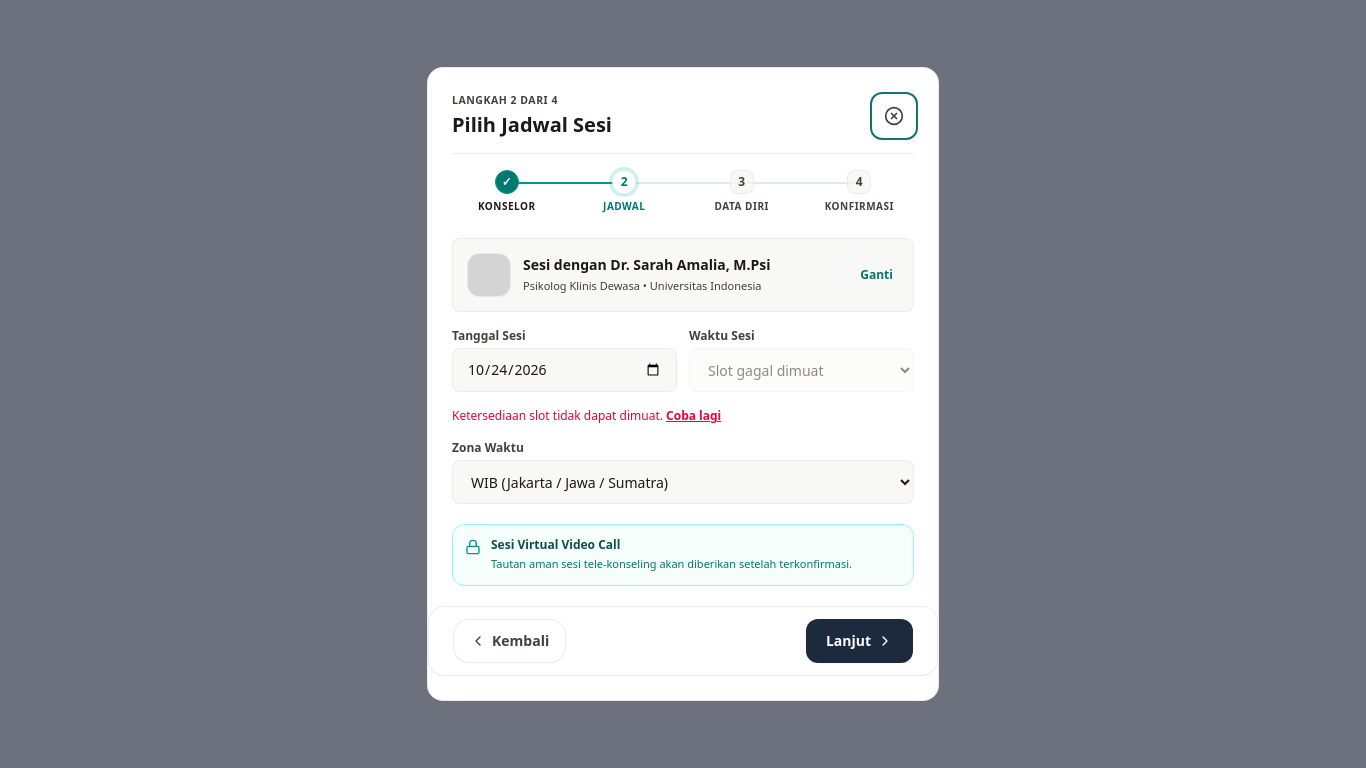
Test: Tahap 3 UI/UX Remediation Tests (F11 - F16) › F13: BookingForm Step Flow Consistency › starts at Step 2 (Pilih Jadwal) with counselor summary and Ganti button when selectedCounselorFromDir is provided
Note: Clicking Ganti takes user to Step 1
Click the button "Ganti" at coordinates (877, 275), box [854,257,899,293]
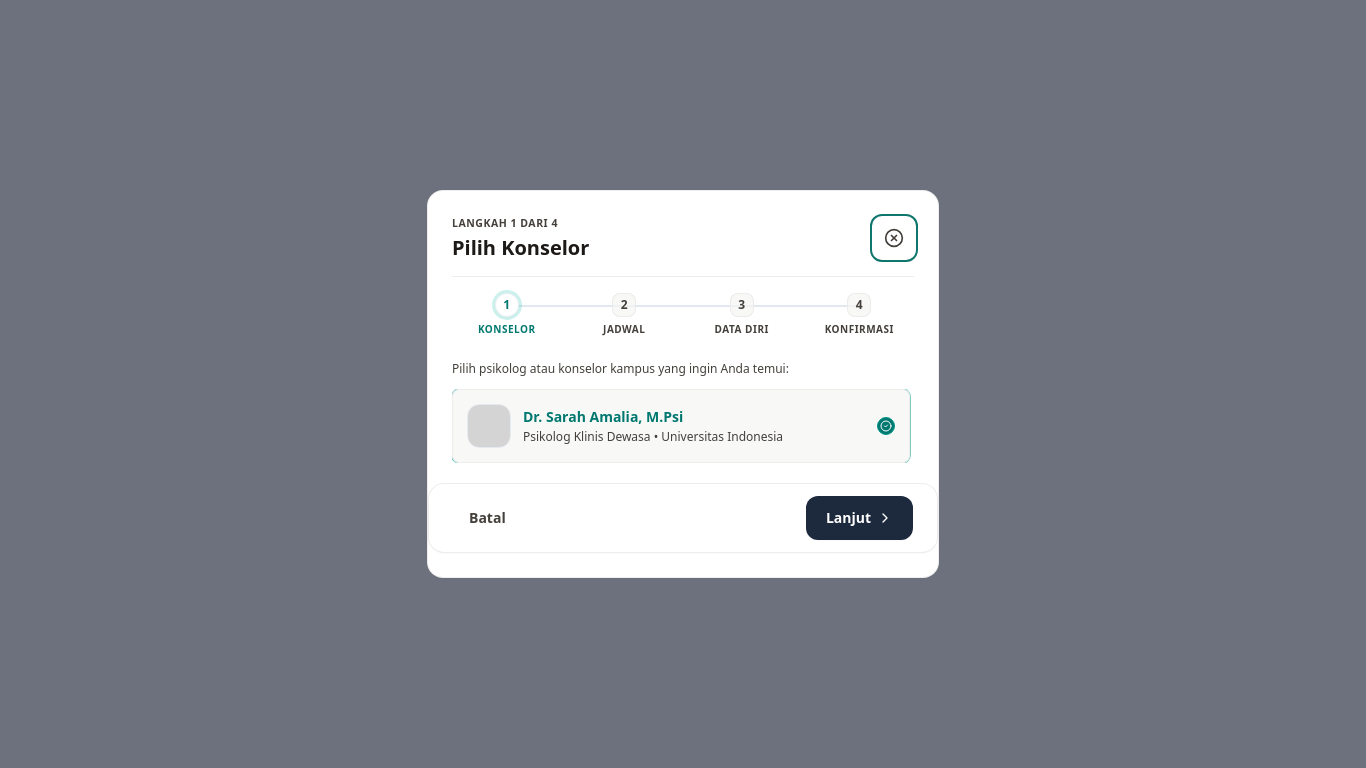
Check: the text "Pilih psikolog atau konselor kampus yang ingin Anda temui:" is shown, box [452,360,789,377]
